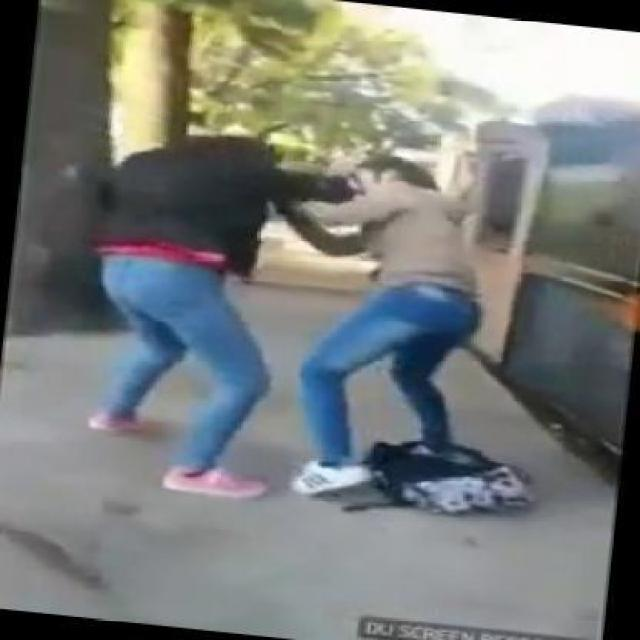fight: (78, 118, 500, 496)
